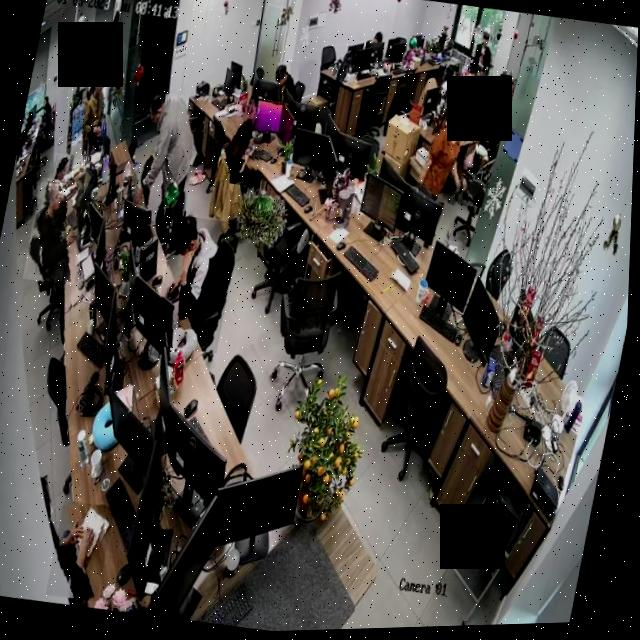person: (154, 215, 244, 357), (131, 91, 211, 233), (418, 95, 489, 210), (25, 177, 95, 287), (50, 500, 119, 603), (217, 111, 273, 190), (76, 69, 117, 159), (44, 151, 92, 208), (468, 29, 501, 84), (269, 62, 304, 110), (437, 58, 468, 99)
